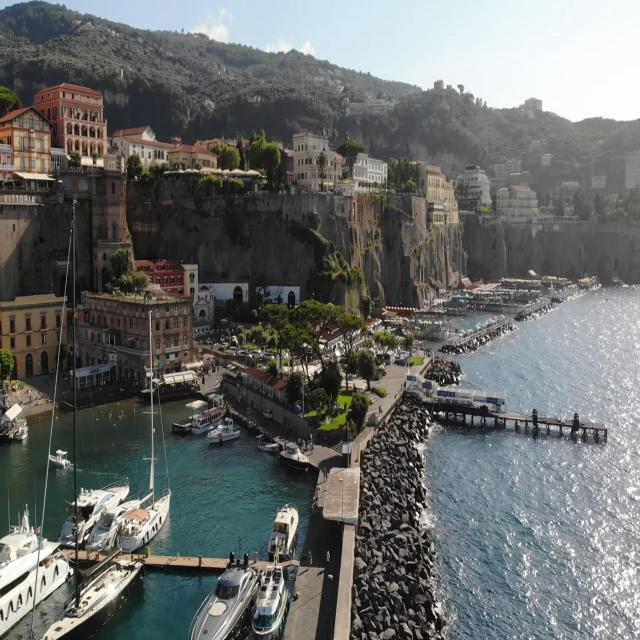boat: (58, 470, 134, 544), (88, 491, 142, 550), (254, 558, 290, 640), (272, 501, 300, 554), (282, 436, 310, 474), (206, 416, 237, 442), (190, 404, 216, 433), (49, 445, 70, 471)
sailboat: (48, 195, 146, 639), (119, 306, 171, 552)
